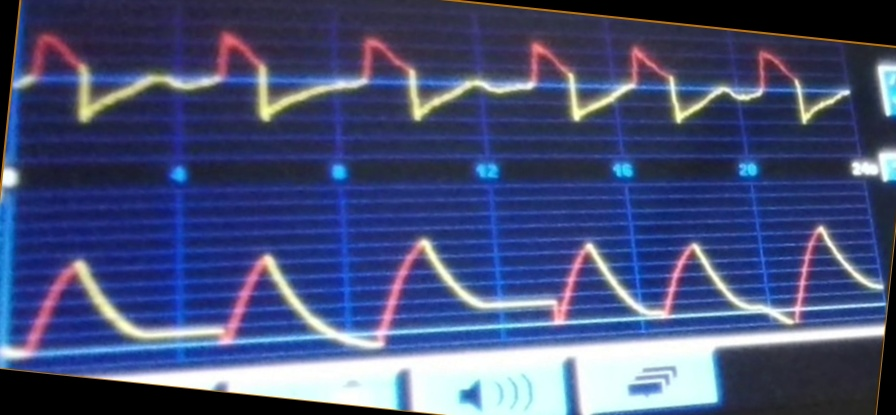Ineffective_effort Flow: (23, 25, 849, 142)
Ineffective_effort Volume: (13, 223, 882, 352)
